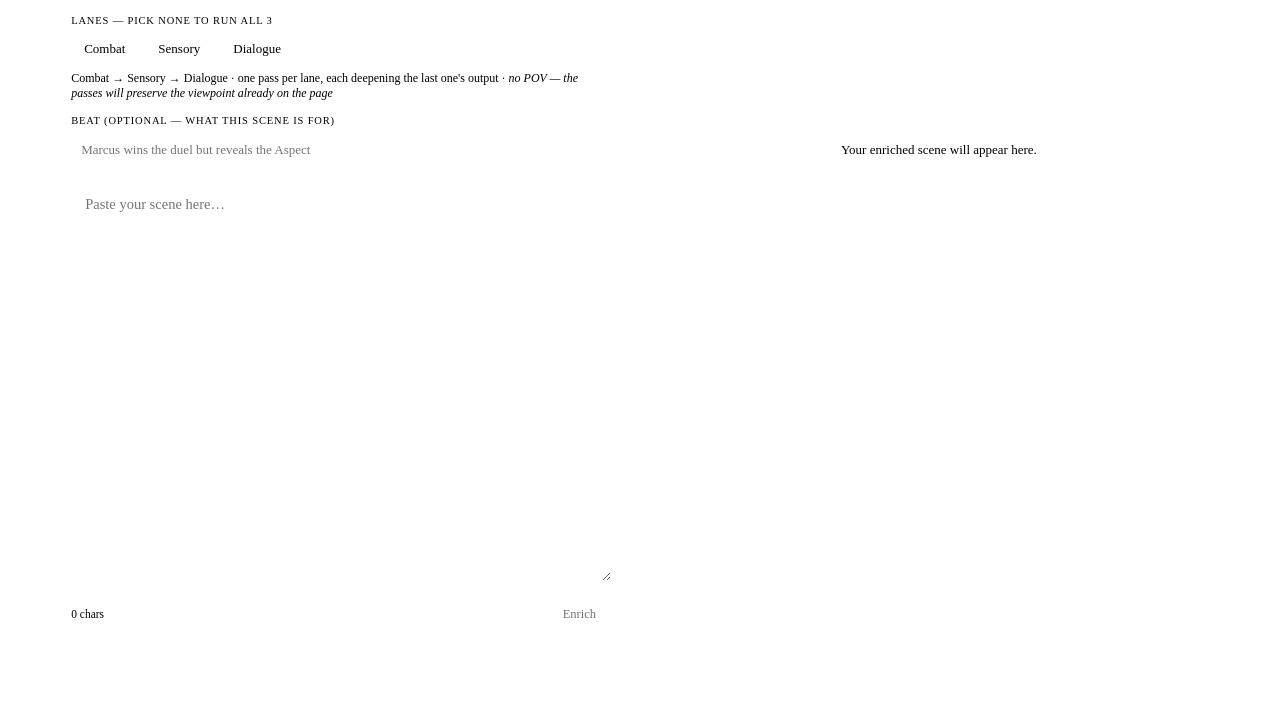
EnrichScreen lane selection › marks a partial result as partial instead of passing it off as complete
This screenshot has width=1280, height=711.
(page scrolled)
Type "He swung." into the text box with placeholder "Paste your scene here…" at (341, 380), box [71,178,611,581]
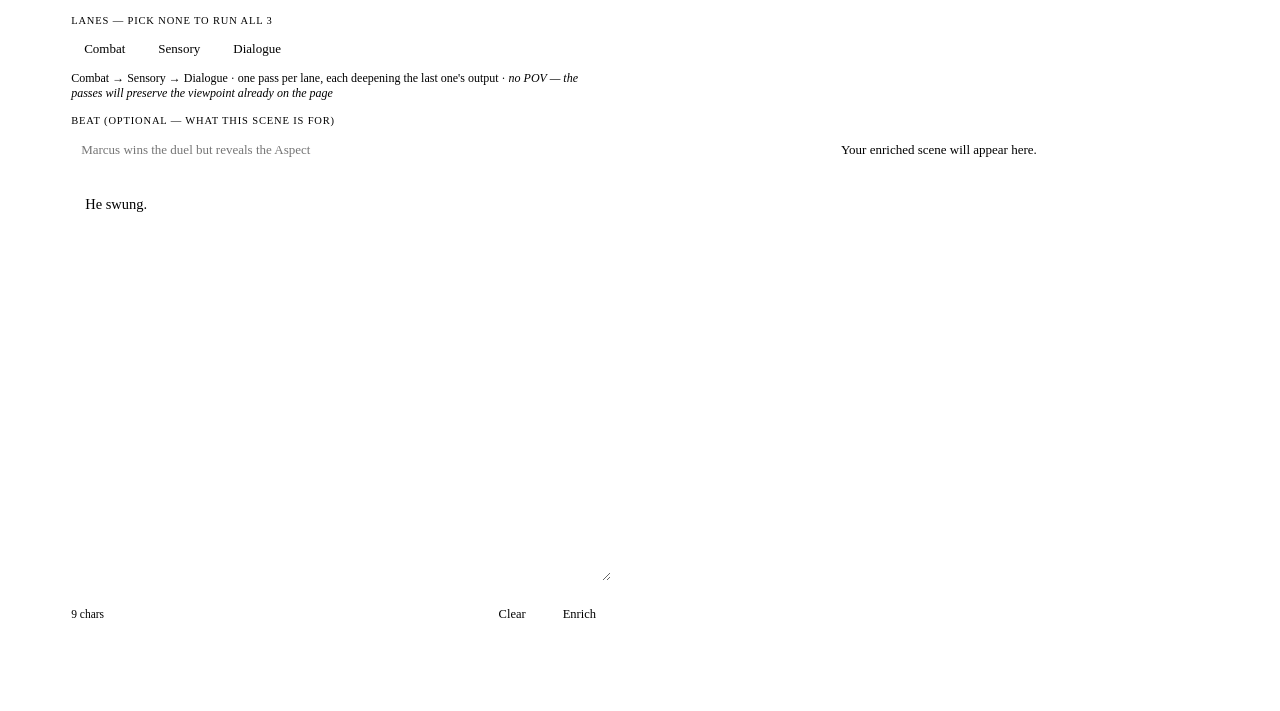
Click the button "Enrich" at (579, 614), box [548,597,611,631]
(page scrolled)
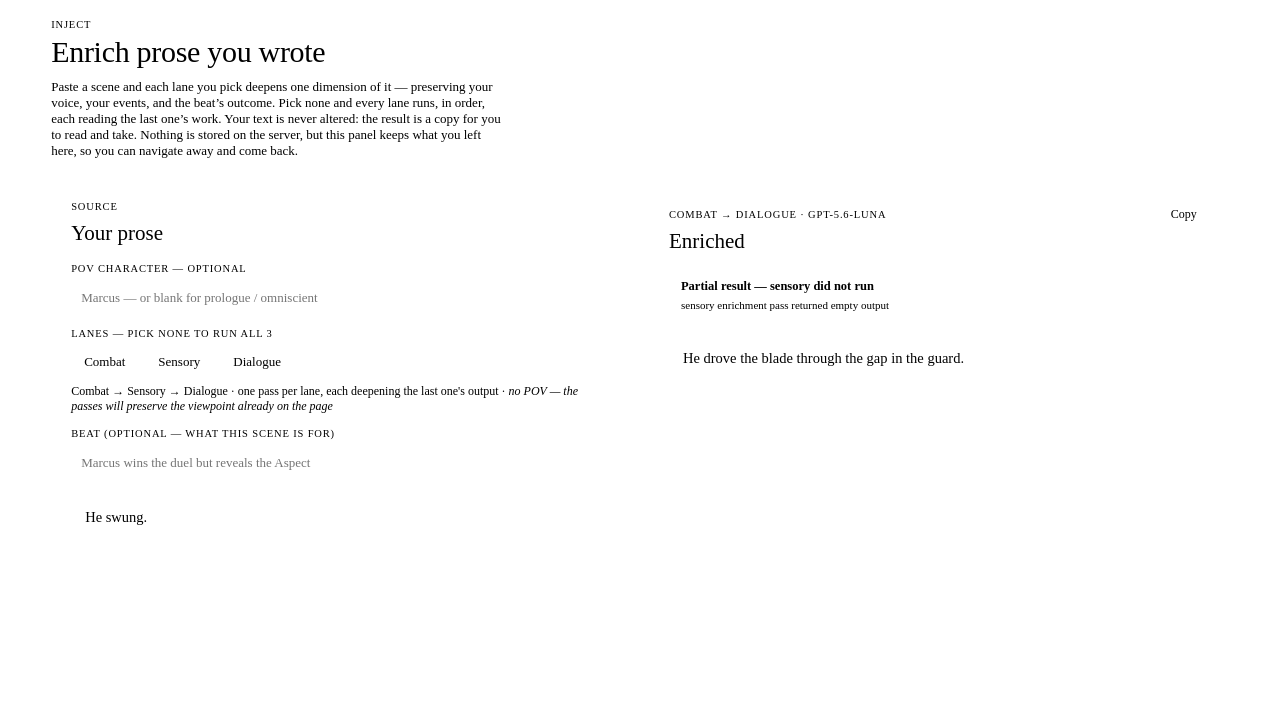
Now the text "Partial result — sensory did not run" is shown, box [681,278,874,292]
Now the text "sensory enrichment pass returned empty output" is shown, box [681,298,889,310]
